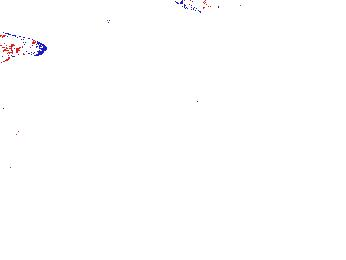X-ray fish: (174, 1, 223, 12)
glassfish: (72, 4, 214, 73)
redtail glassfish: (1, 32, 47, 59)
